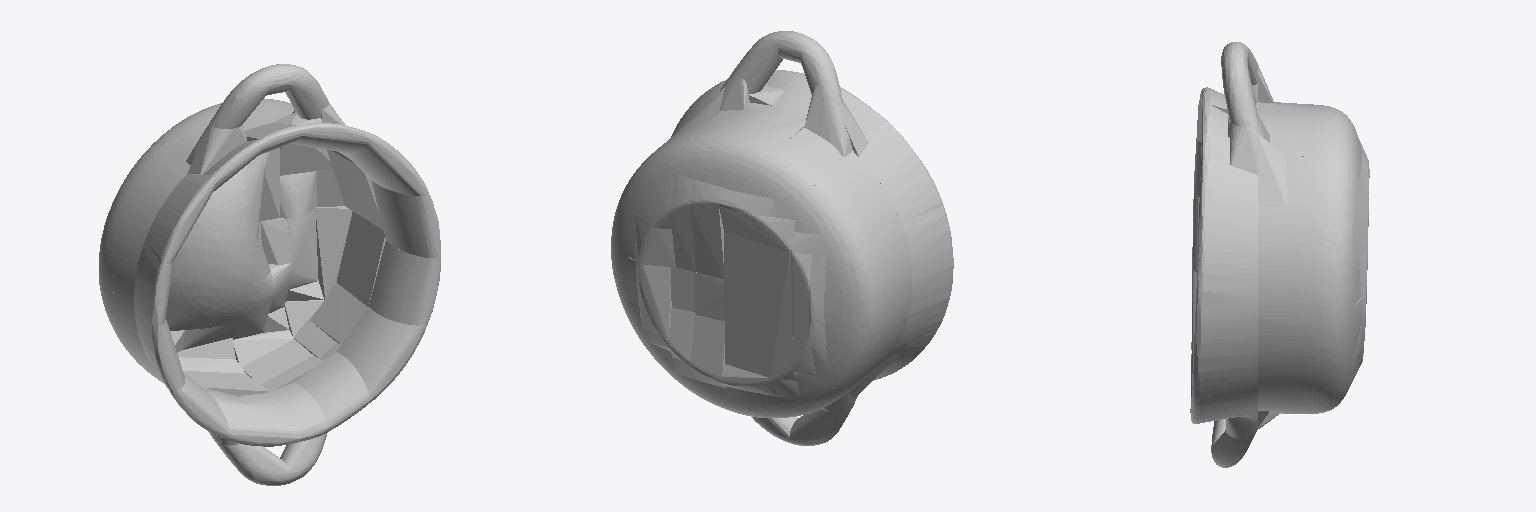
File: coacd_collision.obj
3 renders of one model, left to right at view 1: azimuth 30°, elevation 25°; view 2: azimuth 150°, elevation 25°; view 3: azimuth 270°, elevation 25°, orthographic.
Parts seen in each view (by area): view 1: geometry_27, geometry_0, geometry_4, geometry_7, geometry_3, geometry_28, geometry_8, geometry_16, geometry_5, geometry_14, geometry_6, geometry_40 (+28 smaller); view 2: geometry_27, geometry_3, geometry_23, geometry_57, geometry_26, geometry_62, geometry_8, geometry_6, geometry_20, geometry_2, geometry_17, geometry_42 (+28 smaller); view 3: geometry_24, geometry_5, geometry_28, geometry_7, geometry_0, geometry_26, geometry_14, geometry_4, geometry_55, geometry_35, geometry_1, geometry_37 (+8 smaller).
Boxes of the visible parts, box(x1,y1,x2,y2) form: geometry_27: box(166, 192, 250, 330); geometry_0: box(369, 241, 440, 325); geometry_4: box(336, 307, 427, 402); geometry_7: box(371, 180, 440, 257); geometry_3: box(145, 174, 215, 264); geometry_28: box(337, 211, 385, 306); geometry_8: box(119, 150, 190, 241); geometry_16: box(216, 401, 299, 446); geometry_5: box(345, 131, 428, 195); geometry_14: box(315, 206, 352, 299); geometry_6: box(134, 240, 174, 326); geometry_40: box(311, 364, 369, 431); geometry_27: box(724, 232, 796, 380); geometry_3: box(859, 121, 942, 222); geometry_23: box(722, 142, 827, 202); geometry_57: box(824, 248, 883, 319); geometry_26: box(618, 139, 687, 228); geometry_62: box(824, 313, 881, 393); geometry_8: box(828, 151, 901, 243); geometry_6: box(901, 205, 953, 284); geometry_20: box(690, 179, 723, 278); geometry_2: box(895, 266, 953, 347); geometry_17: box(736, 127, 846, 200); geometry_42: box(791, 253, 815, 375); geometry_24: box(1258, 206, 1330, 317); geometry_5: box(1198, 158, 1257, 261); geometry_28: box(1258, 318, 1321, 399); geometry_7: box(1195, 256, 1257, 330); geometry_0: box(1192, 326, 1257, 386); geometry_26: box(1331, 159, 1368, 272); geometry_14: box(1322, 297, 1362, 404); geometry_4: box(1191, 381, 1257, 423); geometry_55: box(1287, 156, 1330, 210); geometry_35: box(1270, 119, 1334, 159); geometry_1: box(1222, 53, 1257, 126); geometry_37: box(1258, 134, 1286, 206).
Bounding box in the file's own units: 178 × 244 × 95.46.